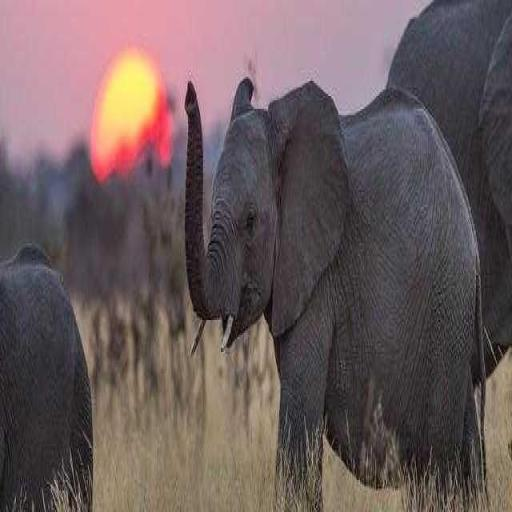Elephant: (183, 72, 488, 510), (385, 0, 511, 465), (0, 241, 94, 510)
